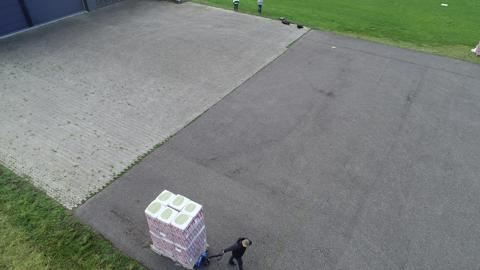RockwoolPallet: (144, 189, 210, 270)
